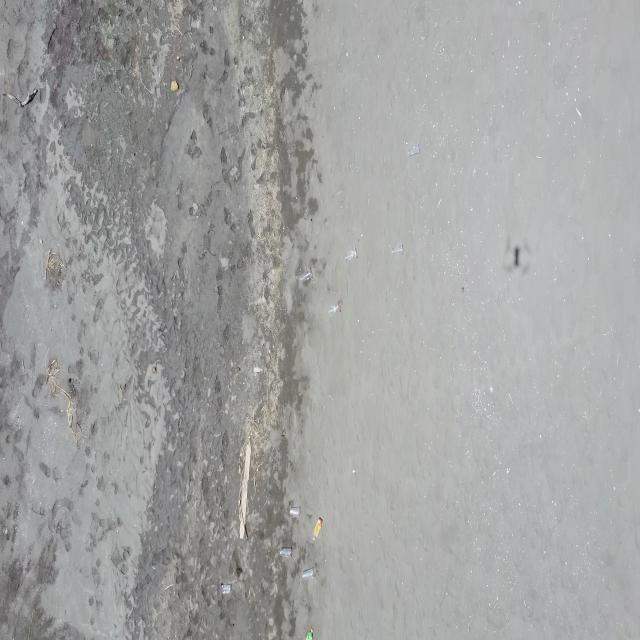plastic-bottle: (312, 516, 324, 542), (305, 626, 315, 640)
takeaway-cup: (300, 266, 313, 284), (344, 247, 358, 263), (288, 503, 302, 519), (328, 300, 342, 314), (301, 567, 315, 580), (280, 546, 293, 559), (219, 583, 232, 596), (392, 243, 404, 257), (408, 142, 420, 155)
